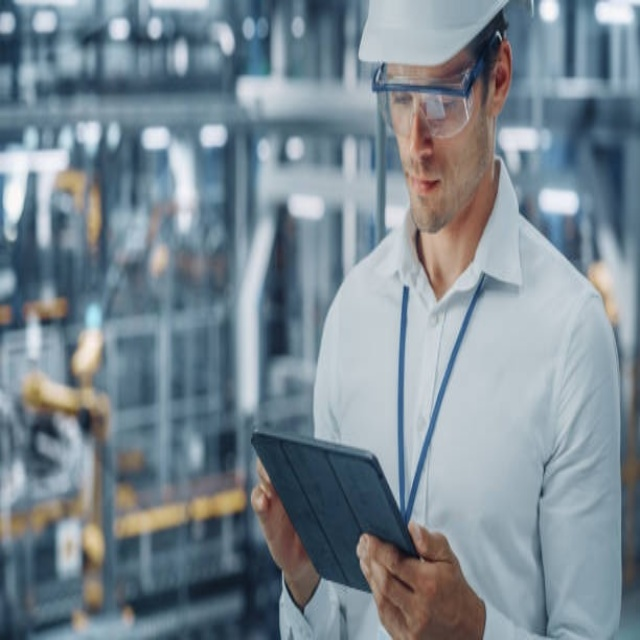Gafas: (374, 38, 499, 141)
Sin_guantes: (357, 517, 480, 640), (252, 455, 311, 585)
Sin_mascara: (402, 162, 447, 220)
